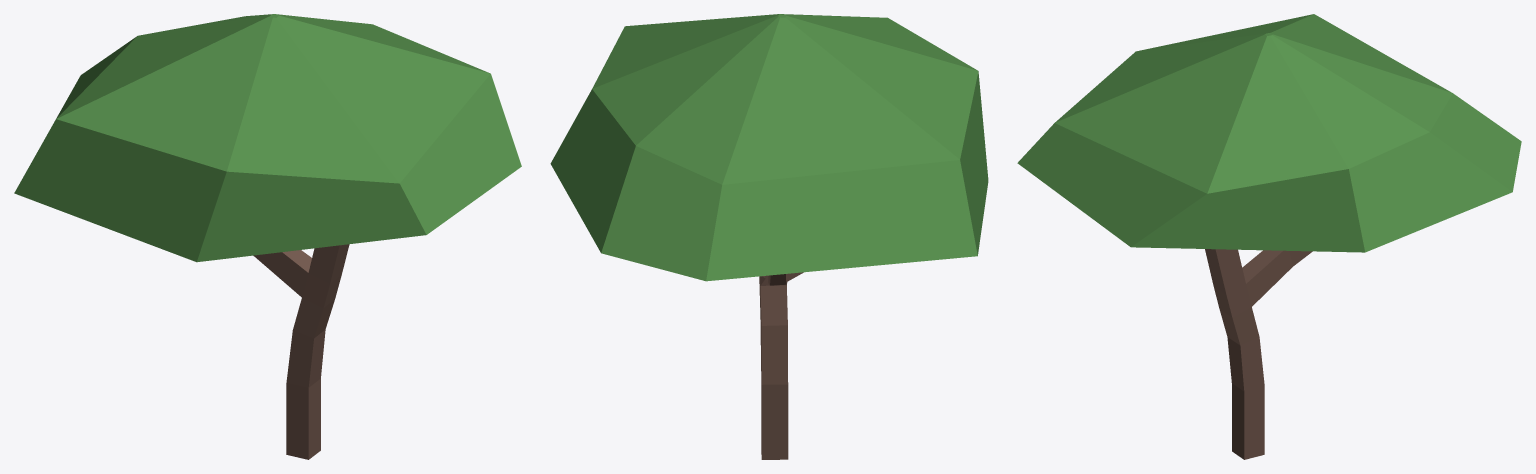
The model's file is arbol2.glb.
3 renders of one model, left to right at view 1: azimuth 30°, elevation 25°; view 2: azimuth 150°, elevation 25°; view 3: azimuth 270°, elevation 25°, orthographic. The views are drawn at different scales.
Visible parts, largest first — view 1: arbol2; view 2: arbol2; view 3: arbol2.
Part boxes in pixels (box(x1,y1,x2,y2)): arbol2: box(14, 14, 521, 459); arbol2: box(550, 14, 988, 459); arbol2: box(1017, 14, 1521, 459).
Size of what is drawn, in the model's own units: 9.78 by 9.94 by 11.07.
